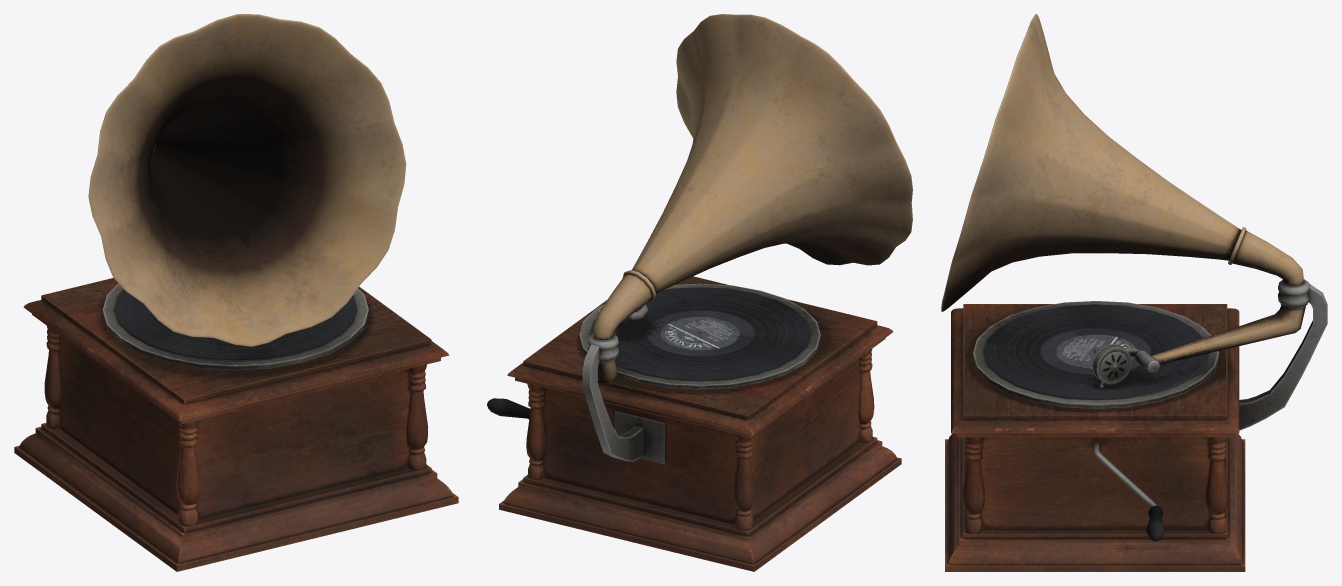
The model's file is obj_old_gramophone_0da7d3.glb.
The picture shows the model from 3 angles, left to right: view 1: azimuth 30°, elevation 25°; view 2: azimuth 150°, elevation 25°; view 3: azimuth 270°, elevation 25°; orthographic projection. The views are drawn at different scales.
Parts seen in each view (by area): view 1: obj_old_gramophone_0da7d3; view 2: obj_old_gramophone_0da7d3; view 3: obj_old_gramophone_0da7d3.
Part boxes in pixels (x1,y1,x2,y2): obj_old_gramophone_0da7d3: (14,14,458,571); obj_old_gramophone_0da7d3: (487,14,912,571); obj_old_gramophone_0da7d3: (941,14,1327,571).
Bounding box in the file's own units: 0.2544 × 0.31 × 0.2352.
1 material, 1 textured.
